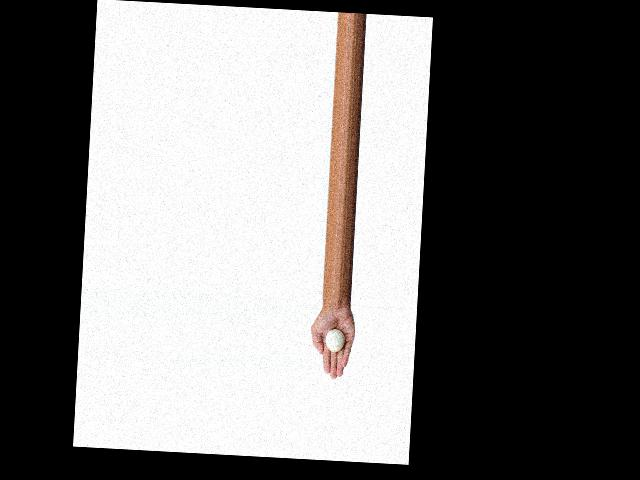egg: (325, 329, 344, 353)
